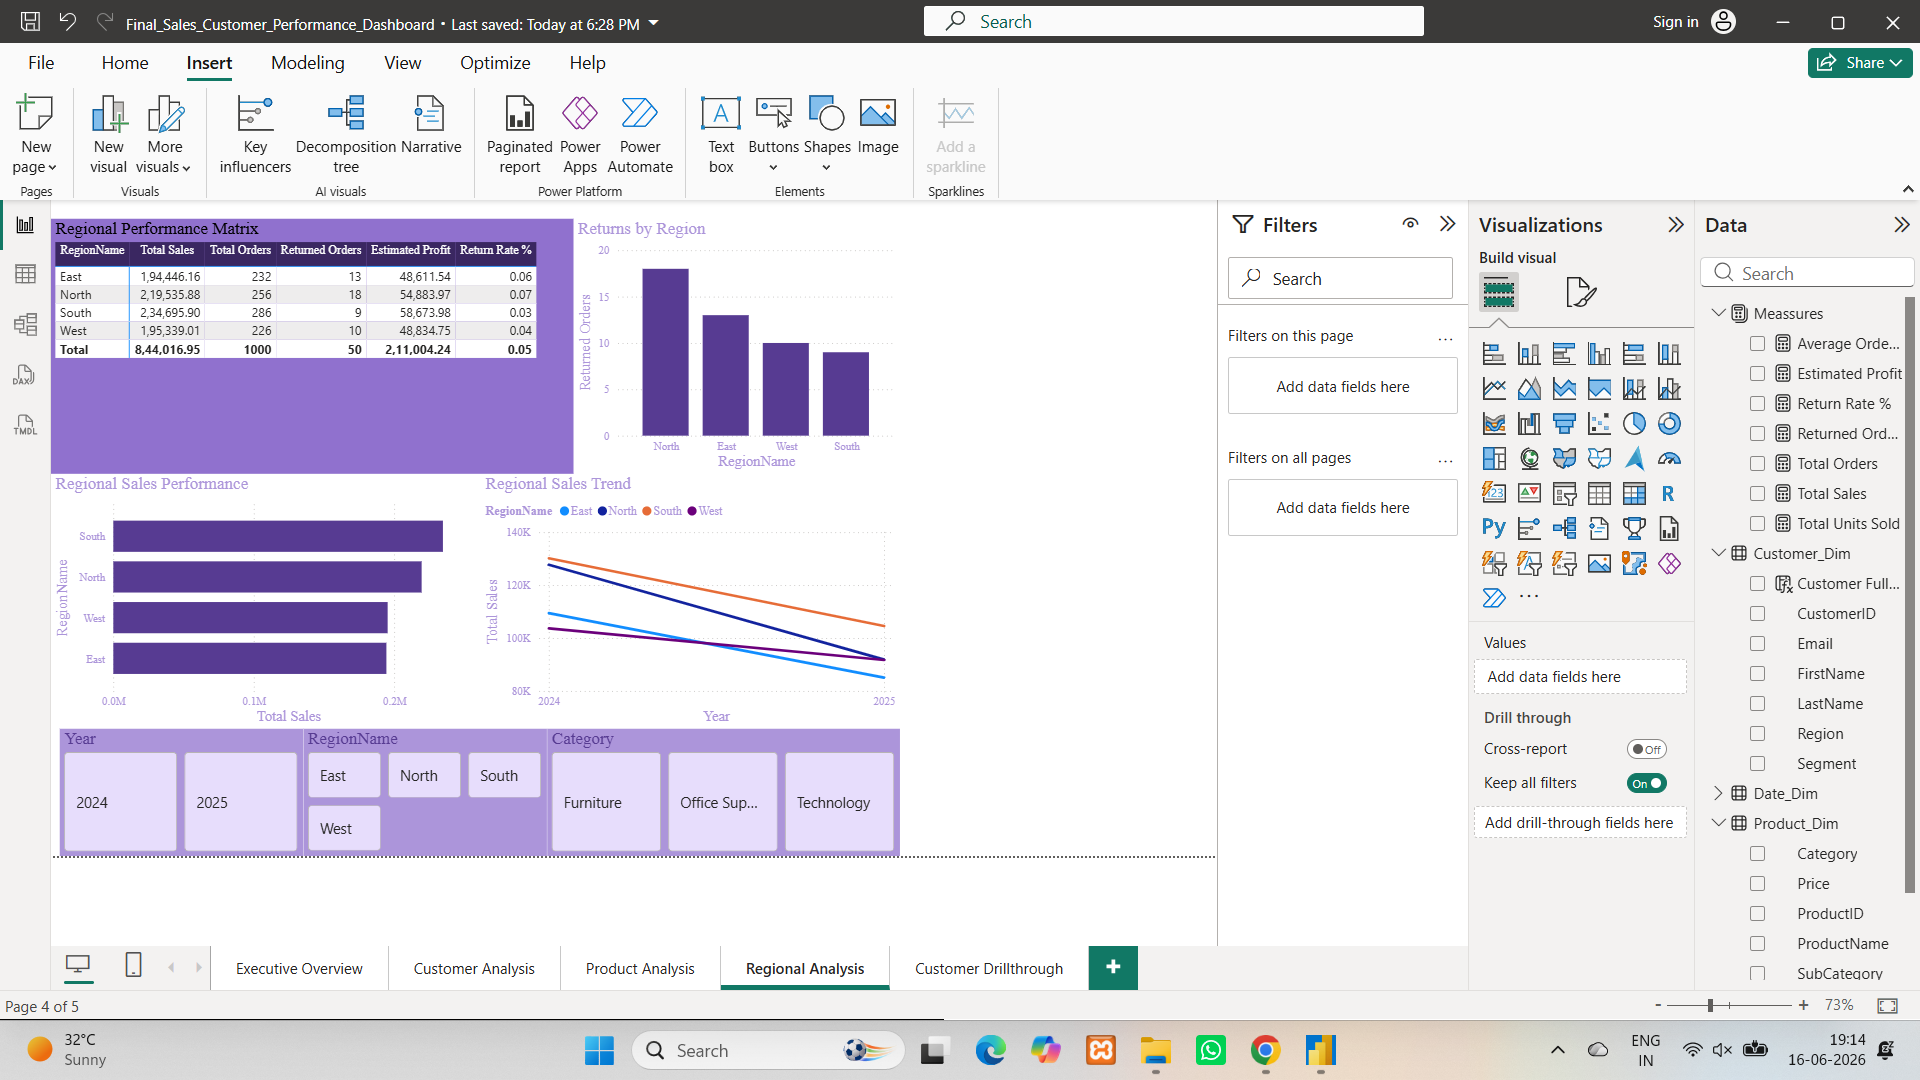

What the dashboard file says about the page in this screenshot:
{"tool":"powerbi","page":{"name":"Regional Analysis","canvas":[1280,720],"ordinal":3},"visuals":[{"type":"clusteredBarChart","title":"Regional Sales Performance","fields":{"Category":["Region_Dim.RegionName"],"Y":["Meassures.Total Sales"]},"box":[0,300.5,472,279.9],"z":0},{"type":"clusteredColumnChart","title":"Returns by Region","fields":{"Category":["Region_Dim.RegionName"],"Y":["Meassures.Returned Orders"]},"box":[573.6,20.6,358.1,279.9],"z":1000},{"type":"lineChart","title":"Regional Sales Trend","fields":{"Category":["Date_Dim.Date.Variation.Date Hierarchy.Year","Date_Dim.Date.Variation.Date Hierarchy.Quarter","Date_Dim.Date.Variation.Date Hierarchy.Month","Date_Dim.Date.Variation.Date Hierarchy.Day"],"Series":["Region_Dim.RegionName"],"Y":["Meassures.Total Sales"]},"box":[472,300.5,459.7,279.9],"z":2000},{"type":"pivotTable","title":"Regional Performance Matrix","fields":{"Rows":["Region_Dim.RegionName"],"Values":["Meassures.Total Sales","Meassures.Total Orders","Meassures.Returned Orders","Meassures.Estimated Profit","Meassures.Return Rate %"]},"box":[0,20.6,573.6,279.9],"z":3000},{"type":"advancedSlicerVisual","fields":{"Values":["Date_Dim.Year"]},"box":[9.6,580.4,267.6,140],"z":4000},{"type":"advancedSlicerVisual","fields":{"Values":["Region_Dim.RegionName"]},"box":[277.2,580.4,267.6,140],"z":5000},{"type":"advancedSlicerVisual","fields":{"Values":["Product_Dim.Category"]},"box":[544.8,580.4,387,140],"z":6000}]}

Visuals, with their boxes on the page's 1280x720 design canvas (x1, y1, x2, y2). These are canvas units, not pixel positions in the 1920x1080 screenshot, which may show the page scaled, cropped or inside an application window:
"Regional Sales Performance" clusteredBarChart: select_region(0, 300, 472, 580)
"Returns by Region" clusteredColumnChart: select_region(574, 21, 932, 300)
"Regional Sales Trend" lineChart: select_region(472, 300, 932, 580)
"Regional Performance Matrix" pivotTable: select_region(0, 21, 574, 300)
advancedSlicerVisual - Date_Dim.Year: select_region(10, 580, 277, 720)
advancedSlicerVisual - Region_Dim.RegionName: select_region(277, 580, 545, 720)
advancedSlicerVisual - Product_Dim.Category: select_region(545, 580, 932, 720)
